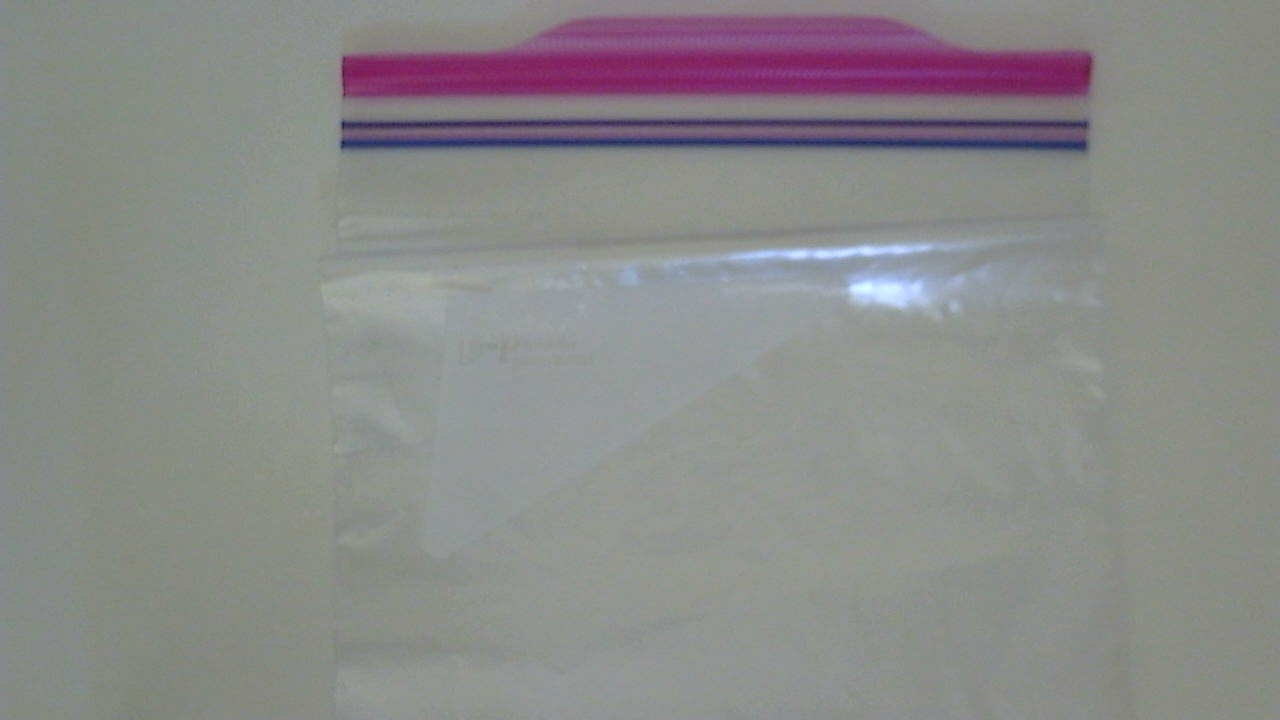Plastic Bag: (341, 7, 1128, 720)
